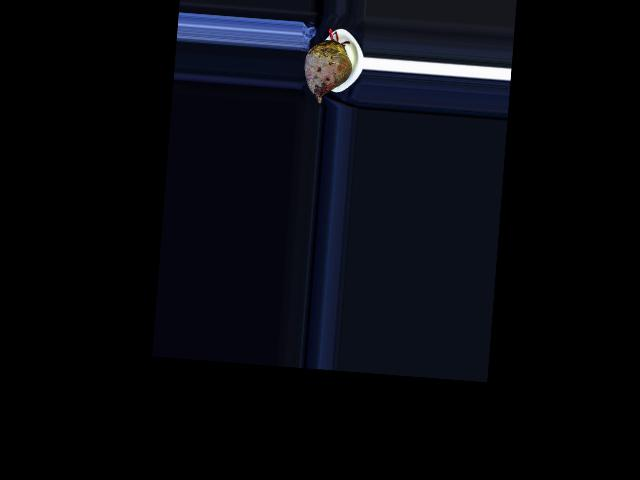beet: (302, 26, 354, 104)
